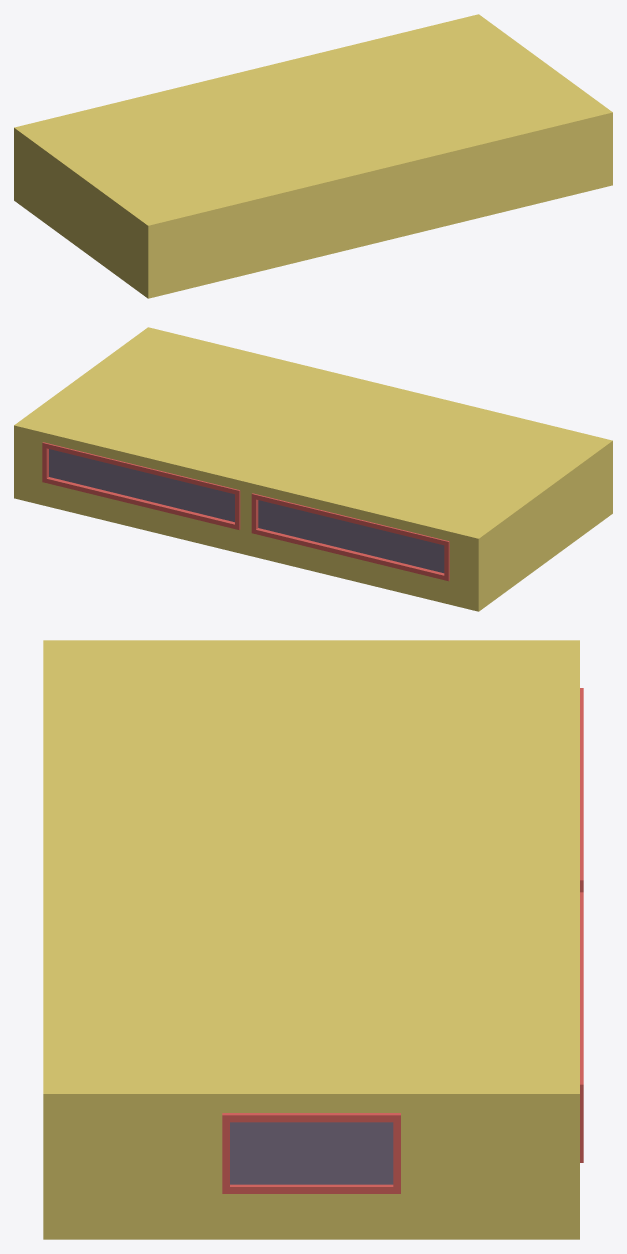
The model's file is BuildingBlock_5_1.fbx.
3 views of the same model, one above another, from view 1: azimuth 30°, elevation 25°; view 2: azimuth 150°, elevation 25°; view 3: azimuth 270°, elevation 25° (orthographic). The views are drawn at different scales.
Visible parts, largest first — view 1: BuildingBlock_5_1; view 2: BuildingBlock_5_1; view 3: BuildingBlock_5_1.
Boxes of the visible parts, bbox=[...] form: BuildingBlock_5_1: bbox=[14, 14, 612, 298]; BuildingBlock_5_1: bbox=[14, 327, 612, 611]; BuildingBlock_5_1: bbox=[43, 640, 583, 1239].
Size of the model in its own units: 2010 by 300 by 1007.
